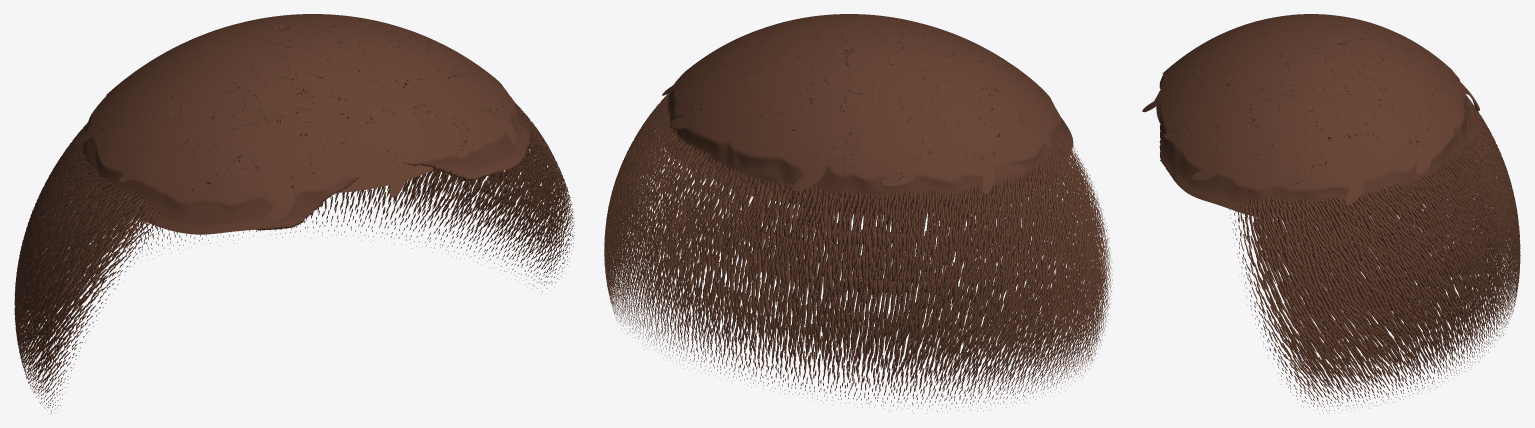
Rendered from Masculine-curly-top-cap254-hair.glb.
The picture shows the model from 3 angles, left to right: view 1: azimuth 30°, elevation 25°; view 2: azimuth 150°, elevation 25°; view 3: azimuth 270°, elevation 25°; orthographic projection. The views are drawn at different scales.
Visible parts, largest first — view 1: 226 hair / Hair252 / sculpted curl groups, 226 hair / Hair254 / rooted short groom; view 2: 226 hair / Hair254 / rooted short groom, 226 hair / Hair252 / sculpted curl groups; view 3: 226 hair / Hair254 / rooted short groom, 226 hair / Hair252 / sculpted curl groups.
Part boxes in pixels (box(x1,y1,x2,y2)): 226 hair / Hair252 / sculpted curl groups: box(72, 14, 529, 234); 226 hair / Hair254 / rooted short groom: box(14, 103, 574, 413); 226 hair / Hair254 / rooted short groom: box(604, 92, 1112, 413); 226 hair / Hair252 / sculpted curl groups: box(657, 14, 1073, 215); 226 hair / Hair254 / rooted short groom: box(1156, 94, 1520, 413); 226 hair / Hair252 / sculpted curl groups: box(1142, 14, 1479, 218).
Bounding box in the file's own units: 0.9716 × 0.5806 × 0.7286.
